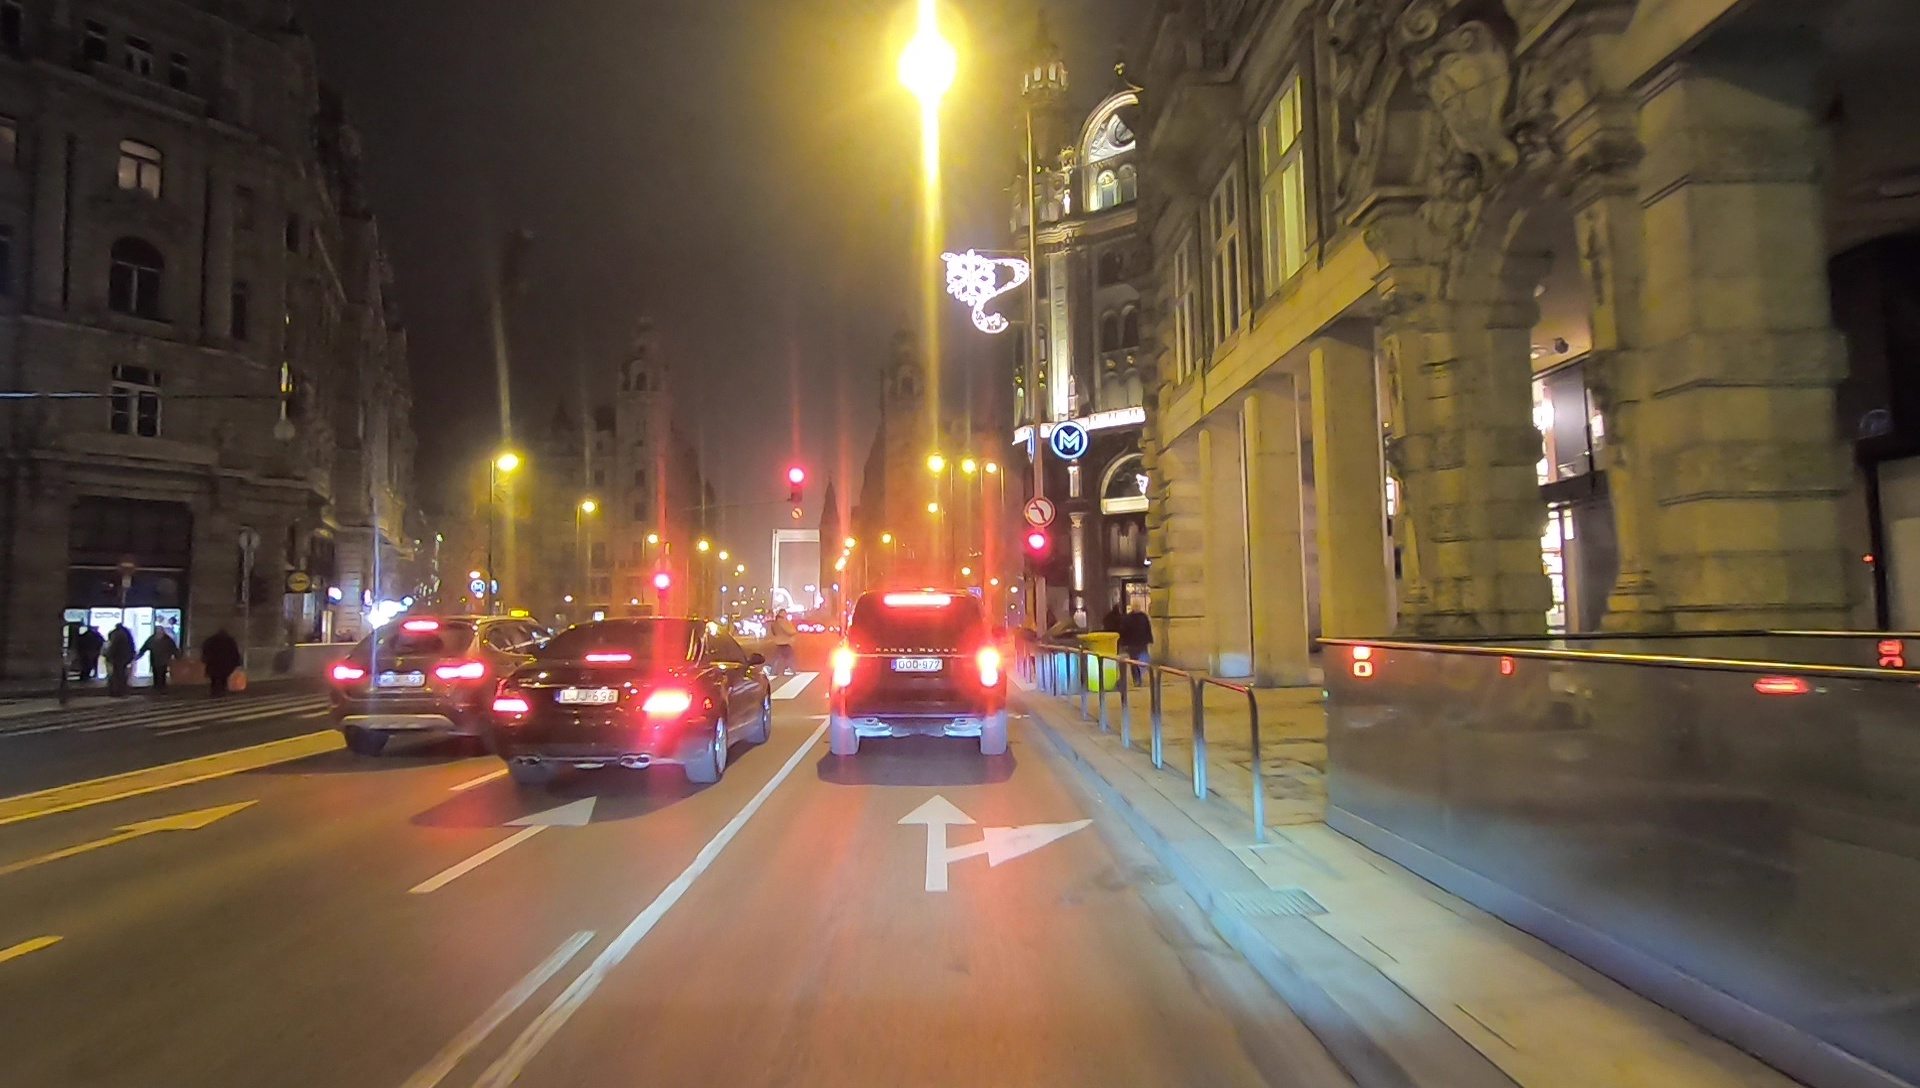person: (204, 623, 246, 696), (1121, 601, 1152, 684), (141, 625, 178, 688), (769, 606, 798, 678), (107, 623, 137, 687), (77, 625, 104, 686)
